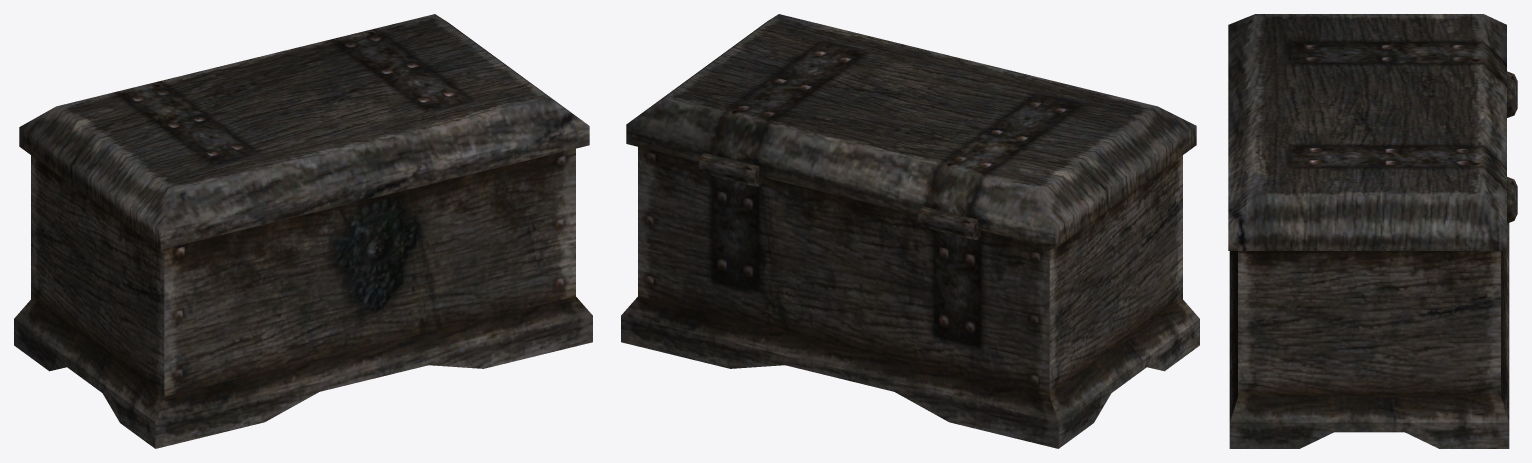
Rendered from wood_box03.dae.
3 views of the same model, side by side, from view 1: azimuth 30°, elevation 25°; view 2: azimuth 150°, elevation 25°; view 3: azimuth 270°, elevation 25° (orthographic).
Visible parts, largest first — view 1: box; view 2: box; view 3: box.
Boxes of the visible parts, bbox=[...] form: box: bbox=[14, 14, 592, 448]; box: bbox=[621, 14, 1199, 448]; box: bbox=[1228, 14, 1517, 448].
Bounding box in the file's own units: 1.33 × 0.7 × 0.771.
